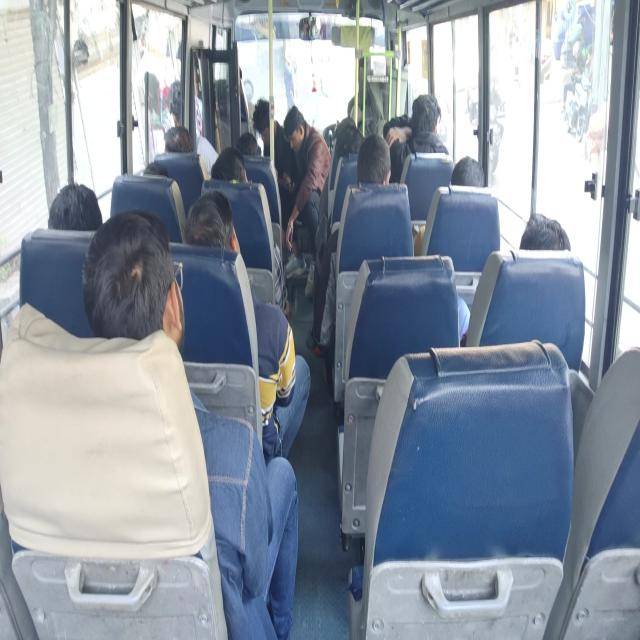person: (101, 237, 168, 320), (189, 193, 255, 264), (55, 175, 107, 235), (522, 203, 572, 255), (214, 144, 255, 192), (143, 158, 178, 202), (457, 158, 492, 200), (416, 88, 444, 130), (366, 143, 394, 184), (232, 132, 266, 160), (224, 57, 251, 92), (341, 118, 364, 155), (288, 106, 312, 141), (163, 118, 190, 148), (331, 118, 349, 143), (258, 105, 270, 140)
